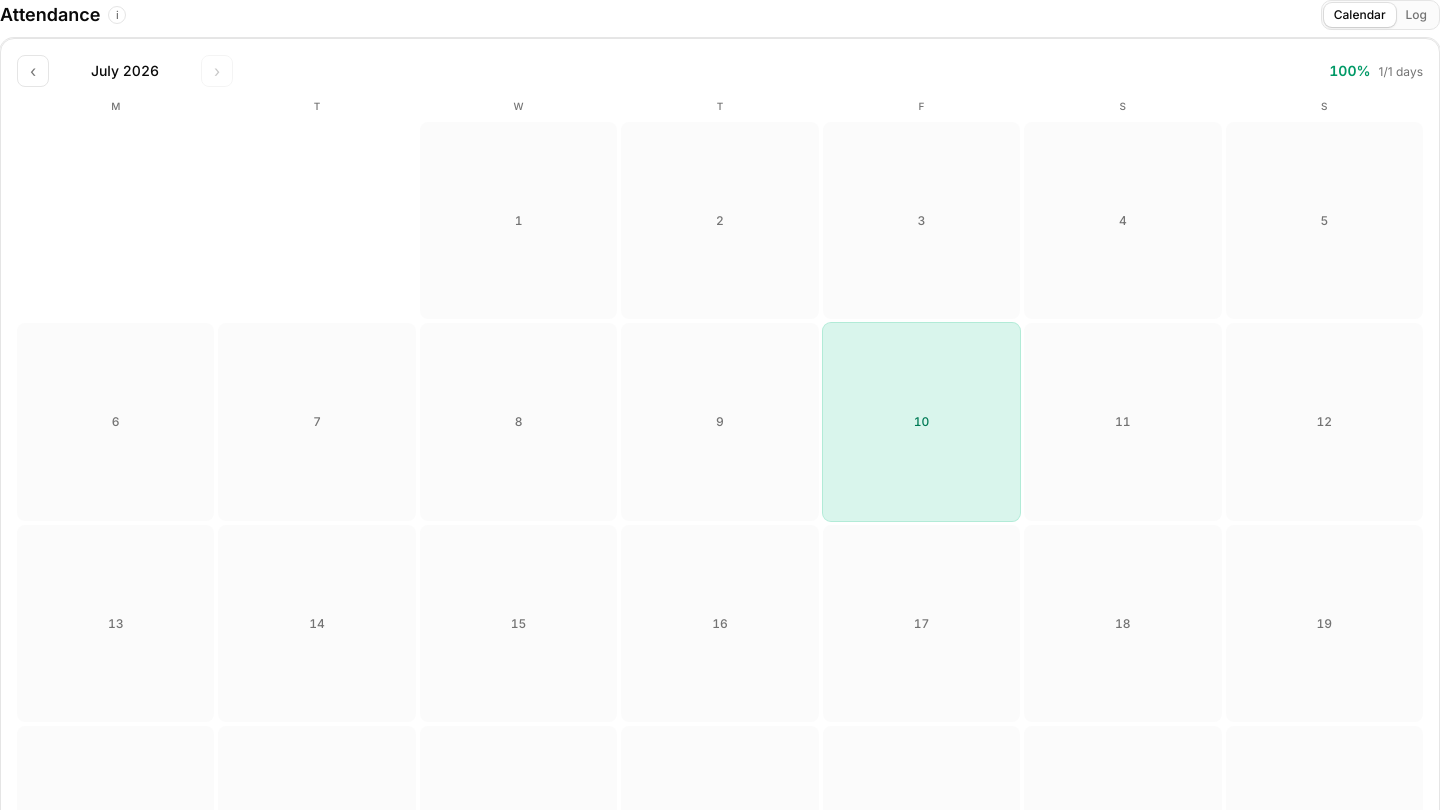
it: StudentAttendanceCalendar › switches to the day log and shows exact IN/OUT times and a window
Click the button "log" at (1416, 15), box x1=1396 y1=3 x2=1437 y2=27
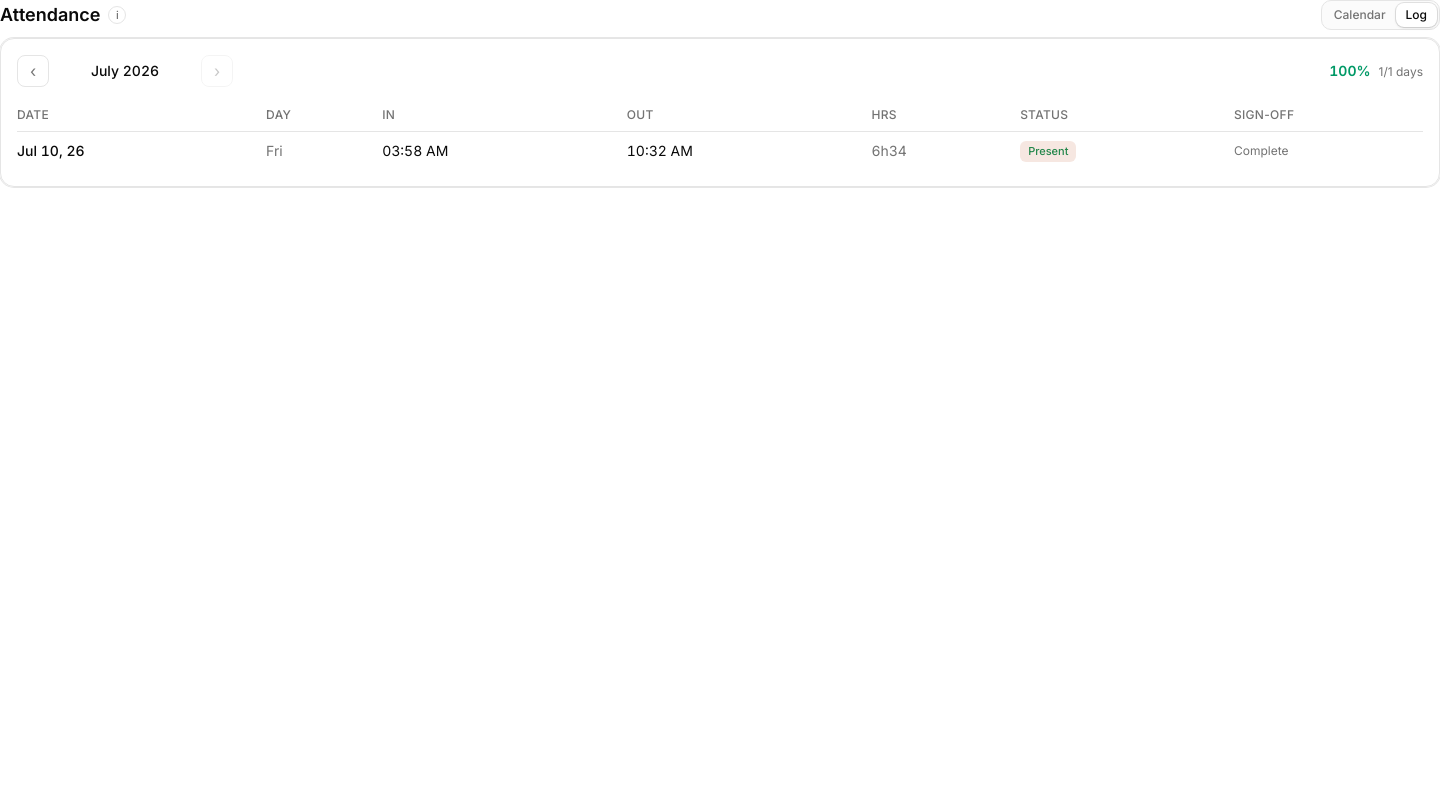
Result: the column heading "In" is shown at x1=382 y1=99 x2=627 y2=132
Result: the column heading "Out" is shown at x1=627 y1=99 x2=871 y2=132
Result: the column heading "Sign-off" is shown at x1=1234 y1=99 x2=1423 y2=132
